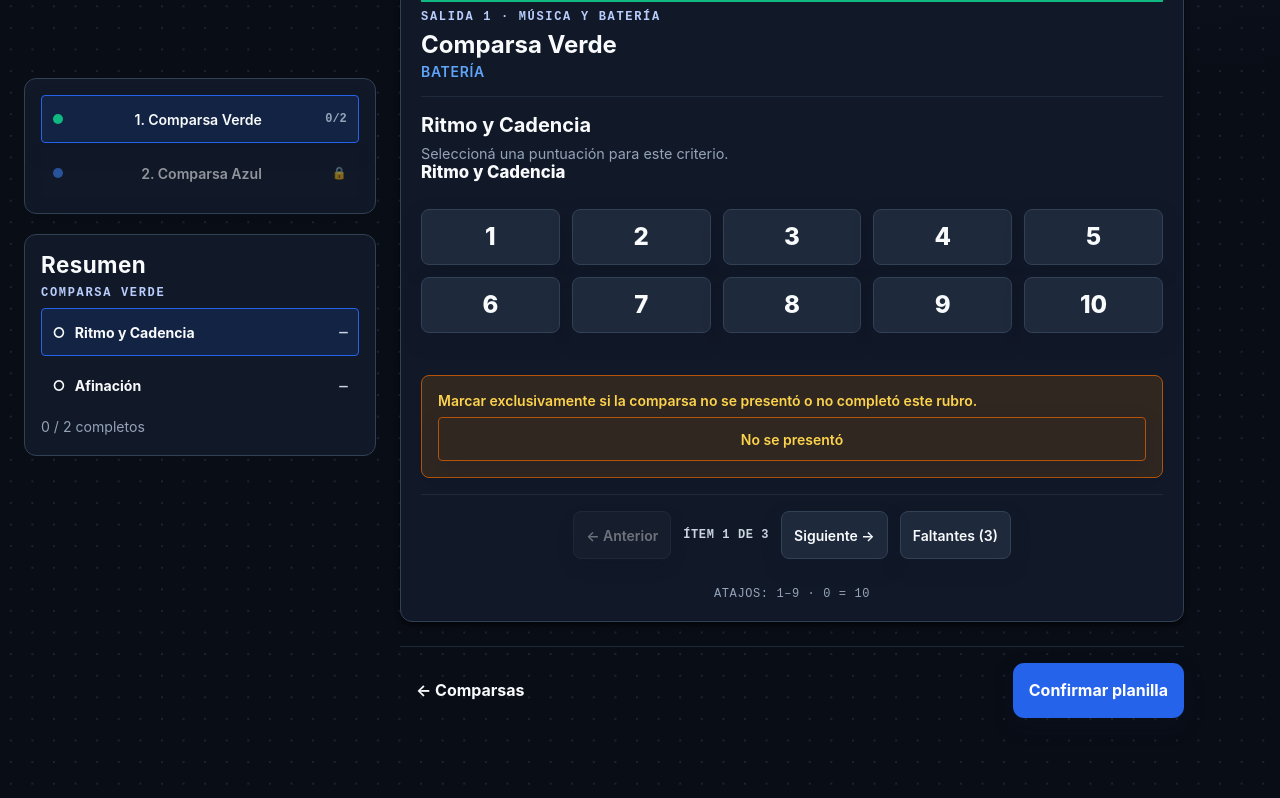
Test: JudgeBallotPage v3 (Spec 021) › muestra barra inferior fija con avance y diálogo de faltantes con salto directo (RF-188)
(page scrolled)
expect the heading "Comparsa Verde" is shown: met, box x1=421 y1=30 x2=617 y2=59
expect the navigation bar named "Navegación de planilla" is shown: met, box x1=421 y1=494 x2=1163 y2=575
# Click "Faltantes (3)"
Click the button "Faltantes (3)" at (955, 535), box x1=900 y1=511 x2=1011 y2=559
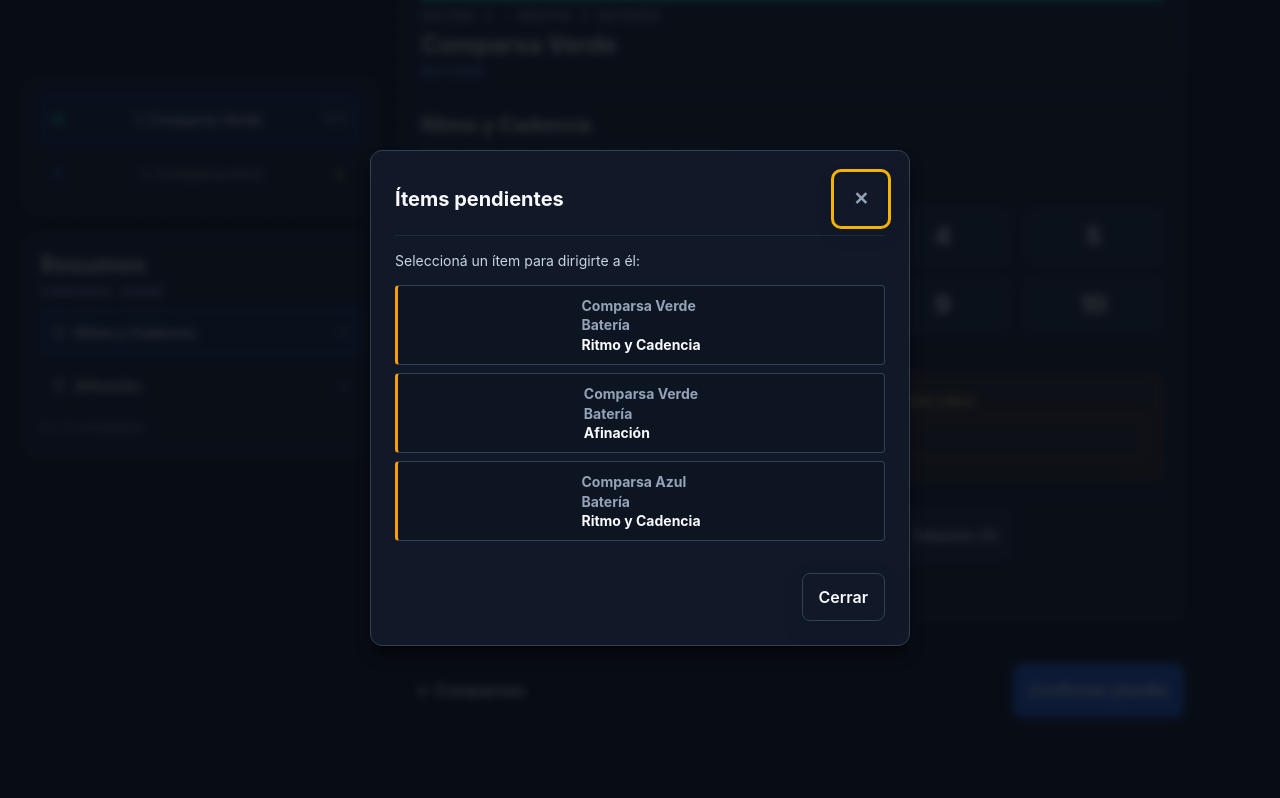
expect the button "Comparsa Azul Batería Ritmo y Cadencia" is shown: met
Click the button "Comparsa Azul Batería Ritmo y Cadencia" at (634, 482), box x1=395 y1=461 x2=885 y2=541
(page scrolled)
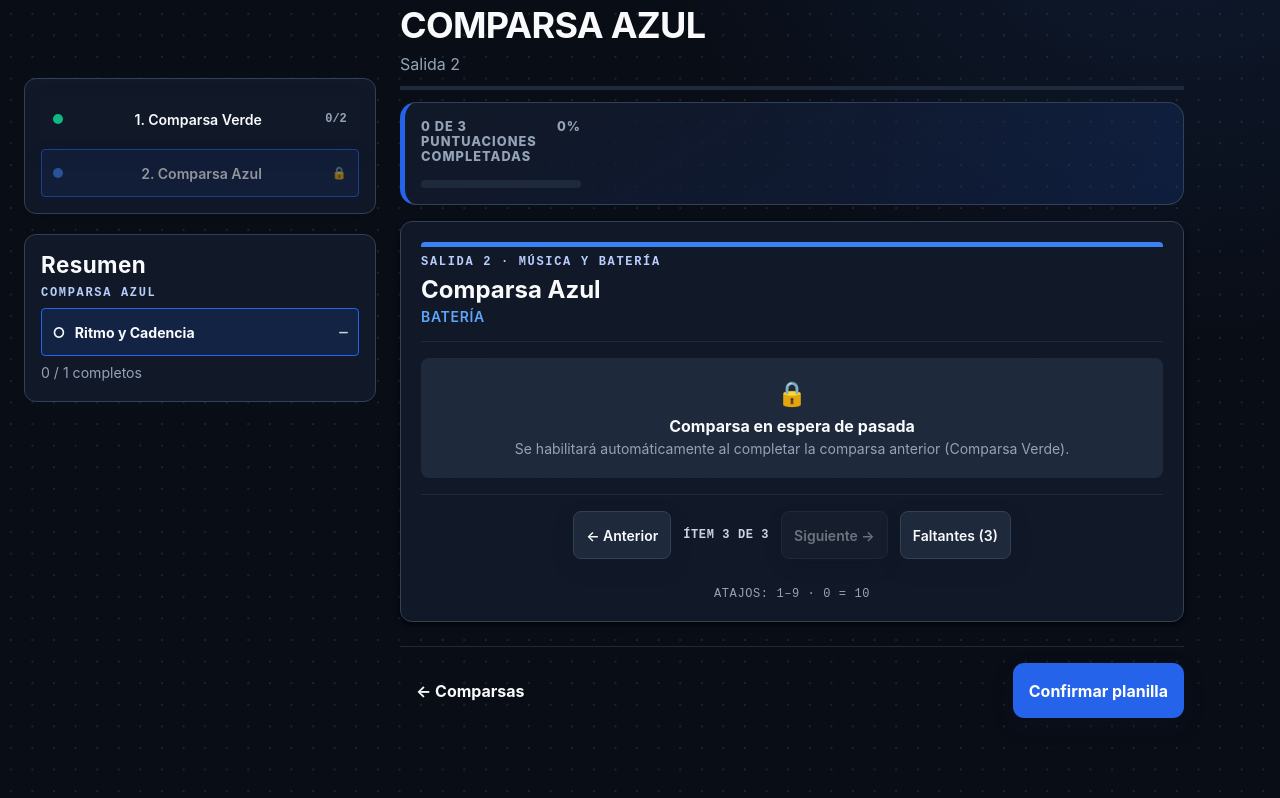
expect the heading "Ítems pendientes" is gone: met
expect the text "Ítem 3 de 3" is shown: met, box x1=679 y1=528 x2=773 y2=542
